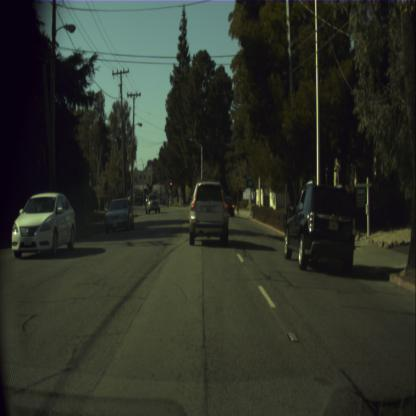Red: (170, 180, 172, 188), (144, 186, 146, 190)
